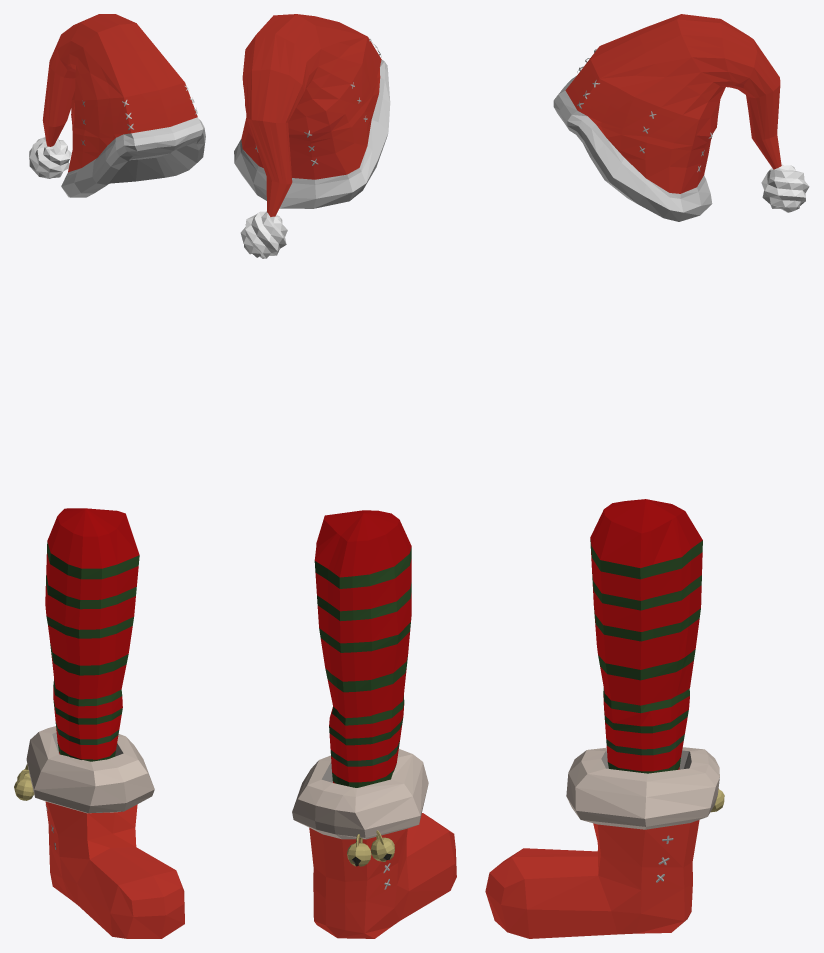
File: christmasClothing.glb
3 views of the same model, side by side, from view 1: azimuth 30°, elevation 25°; view 2: azimuth 150°, elevation 25°; view 3: azimuth 270°, elevation 25° (orthographic). The views are drawn at different scales.
Visible parts, largest first — view 1: christmasHat, christmasBoot, christmasPantsUpperLeg, christmasPants; view 2: christmasHat, christmasBoot, christmasPantsUpperLeg, christmasPants; view 3: christmasHat, christmasBoot, christmasPantsUpperLeg, christmasPants.
Boxes of the visible parts, x1,y1,x2,y2 form: christmasHat: (29,14,205,197); christmasBoot: (14,726,184,938); christmasPantsUpperLeg: (45,508,139,699); christmasPants: (53,679,122,761); christmasHat: (234,14,390,258); christmasBoot: (292,749,456,938); christmasPantsUpperLeg: (314,510,411,718); christmasPants: (329,695,404,787); christmasHat: (553,14,809,221); christmasBoot: (485,747,724,938); christmasPantsUpperLeg: (590,499,702,705); christmasPants: (603,688,689,773).
Size of the model in its own units: 0.4061 by 2.04 by 0.6465.
